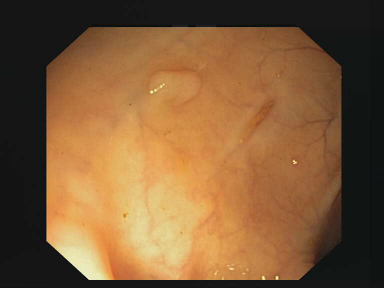polyp: (148, 67, 205, 104)
